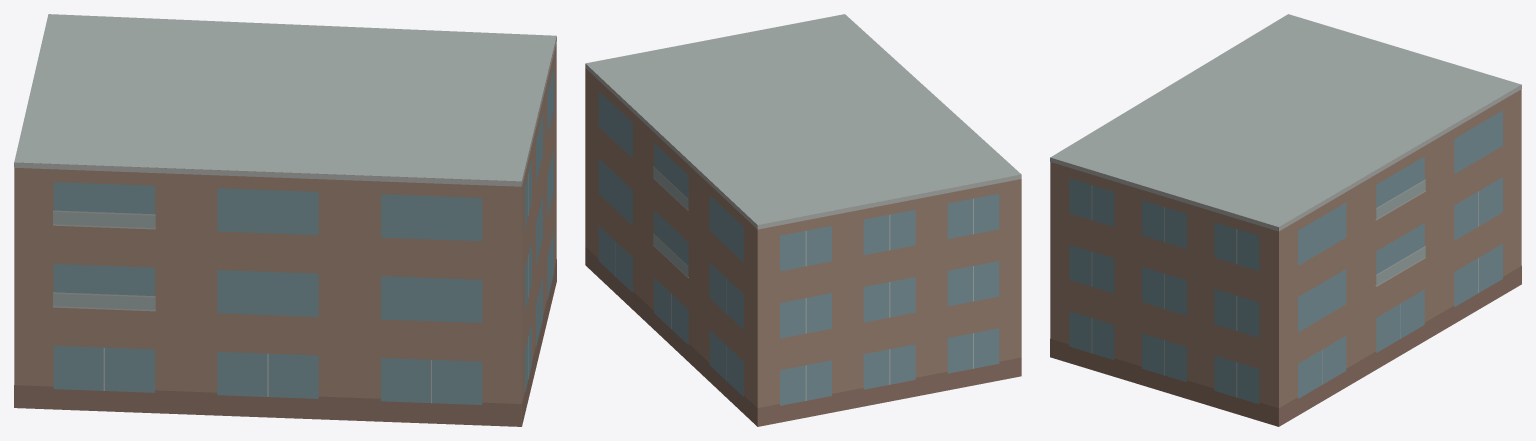
File: survey-upis-32866786.glb
3 renders of one model, left to right at view 1: azimuth 30°, elevation 25°; view 2: azimuth 150°, elevation 25°; view 3: azimuth 270°, elevation 25°, orthographic. The views are drawn at different scales.
Parts seen in each view (by area): view 1: survey-upis-32866786.tmp; view 2: survey-upis-32866786.tmp; view 3: survey-upis-32866786.tmp.
Part boxes in pixels (bbox=[...]): survey-upis-32866786.tmp: bbox=[14, 14, 556, 426]; survey-upis-32866786.tmp: bbox=[585, 14, 1021, 426]; survey-upis-32866786.tmp: bbox=[1050, 14, 1521, 426].
Size of the model in its own units: 25.43 by 11.11 by 23.78.
